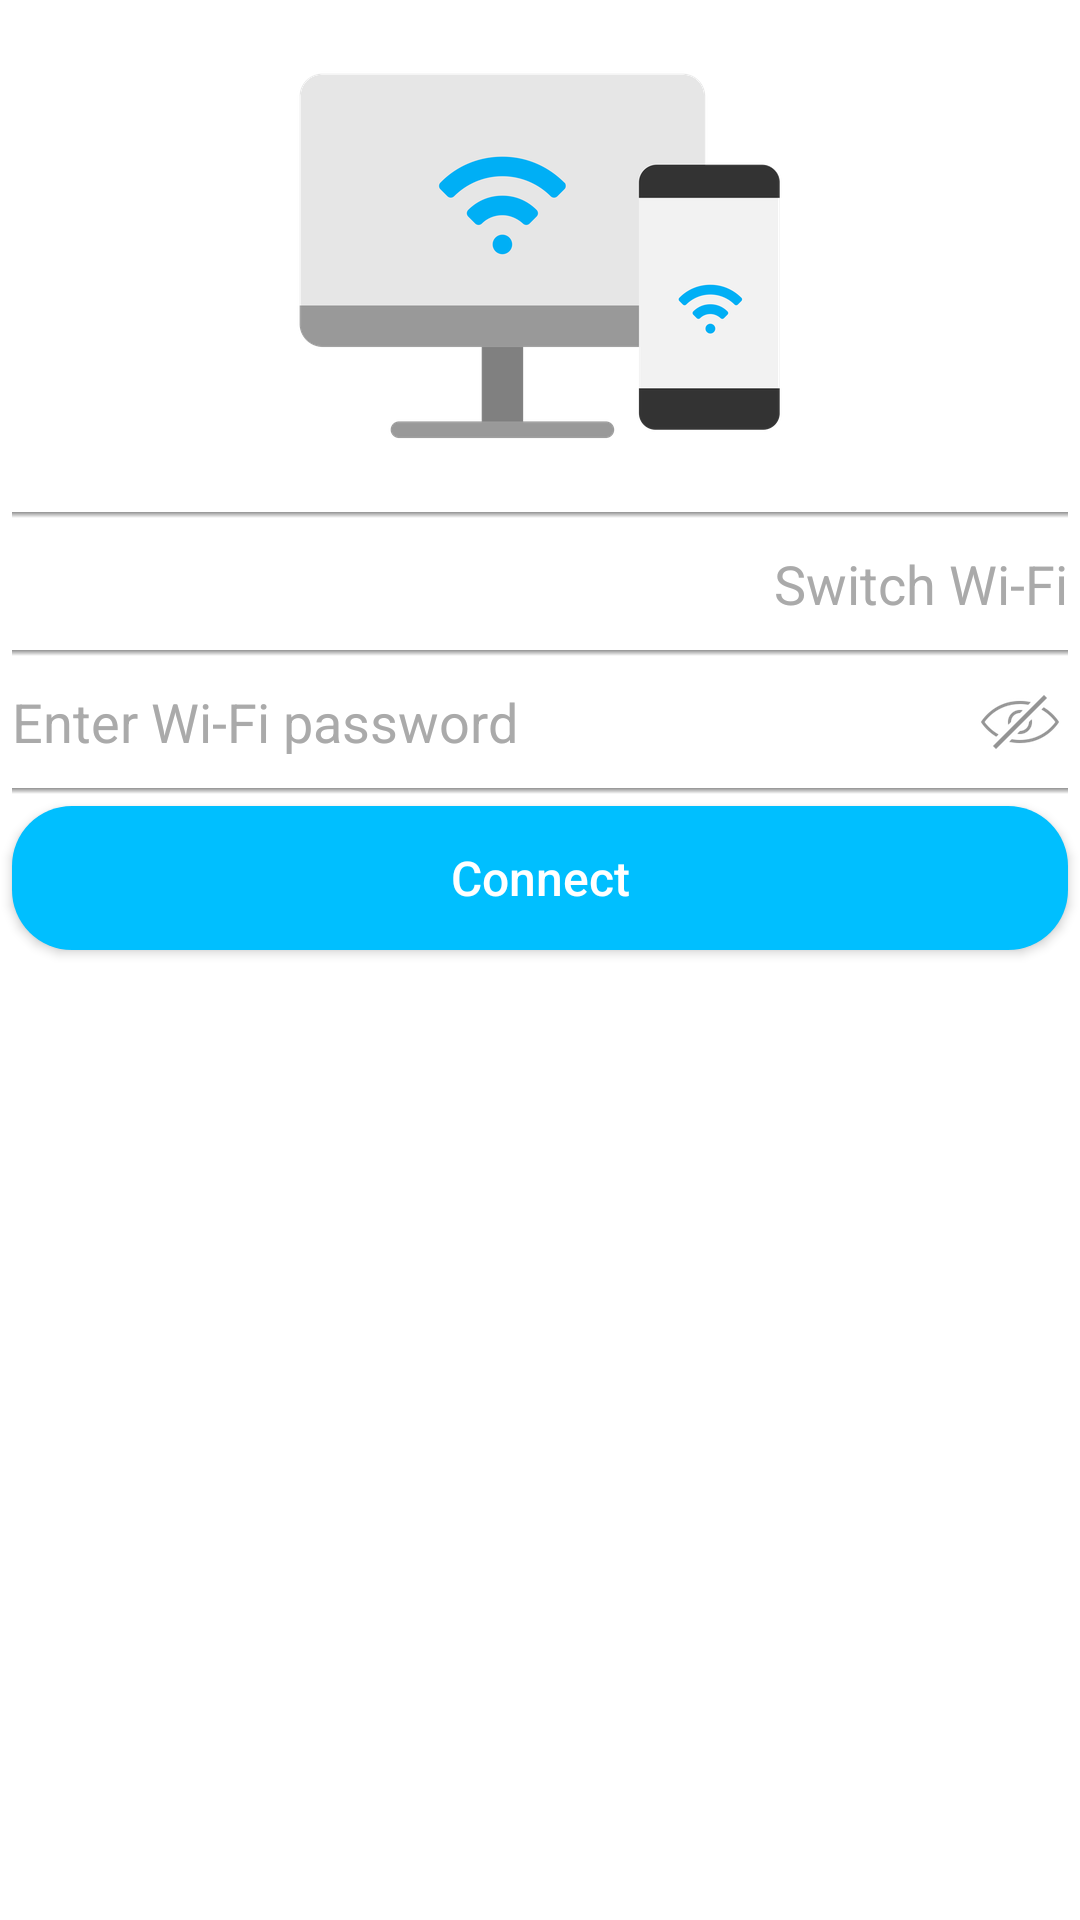

Screen size 1080x1920. Icon name, then its box in pixels as (x1, y1, x2, y2):
eye closed: (981, 695, 1059, 749)
